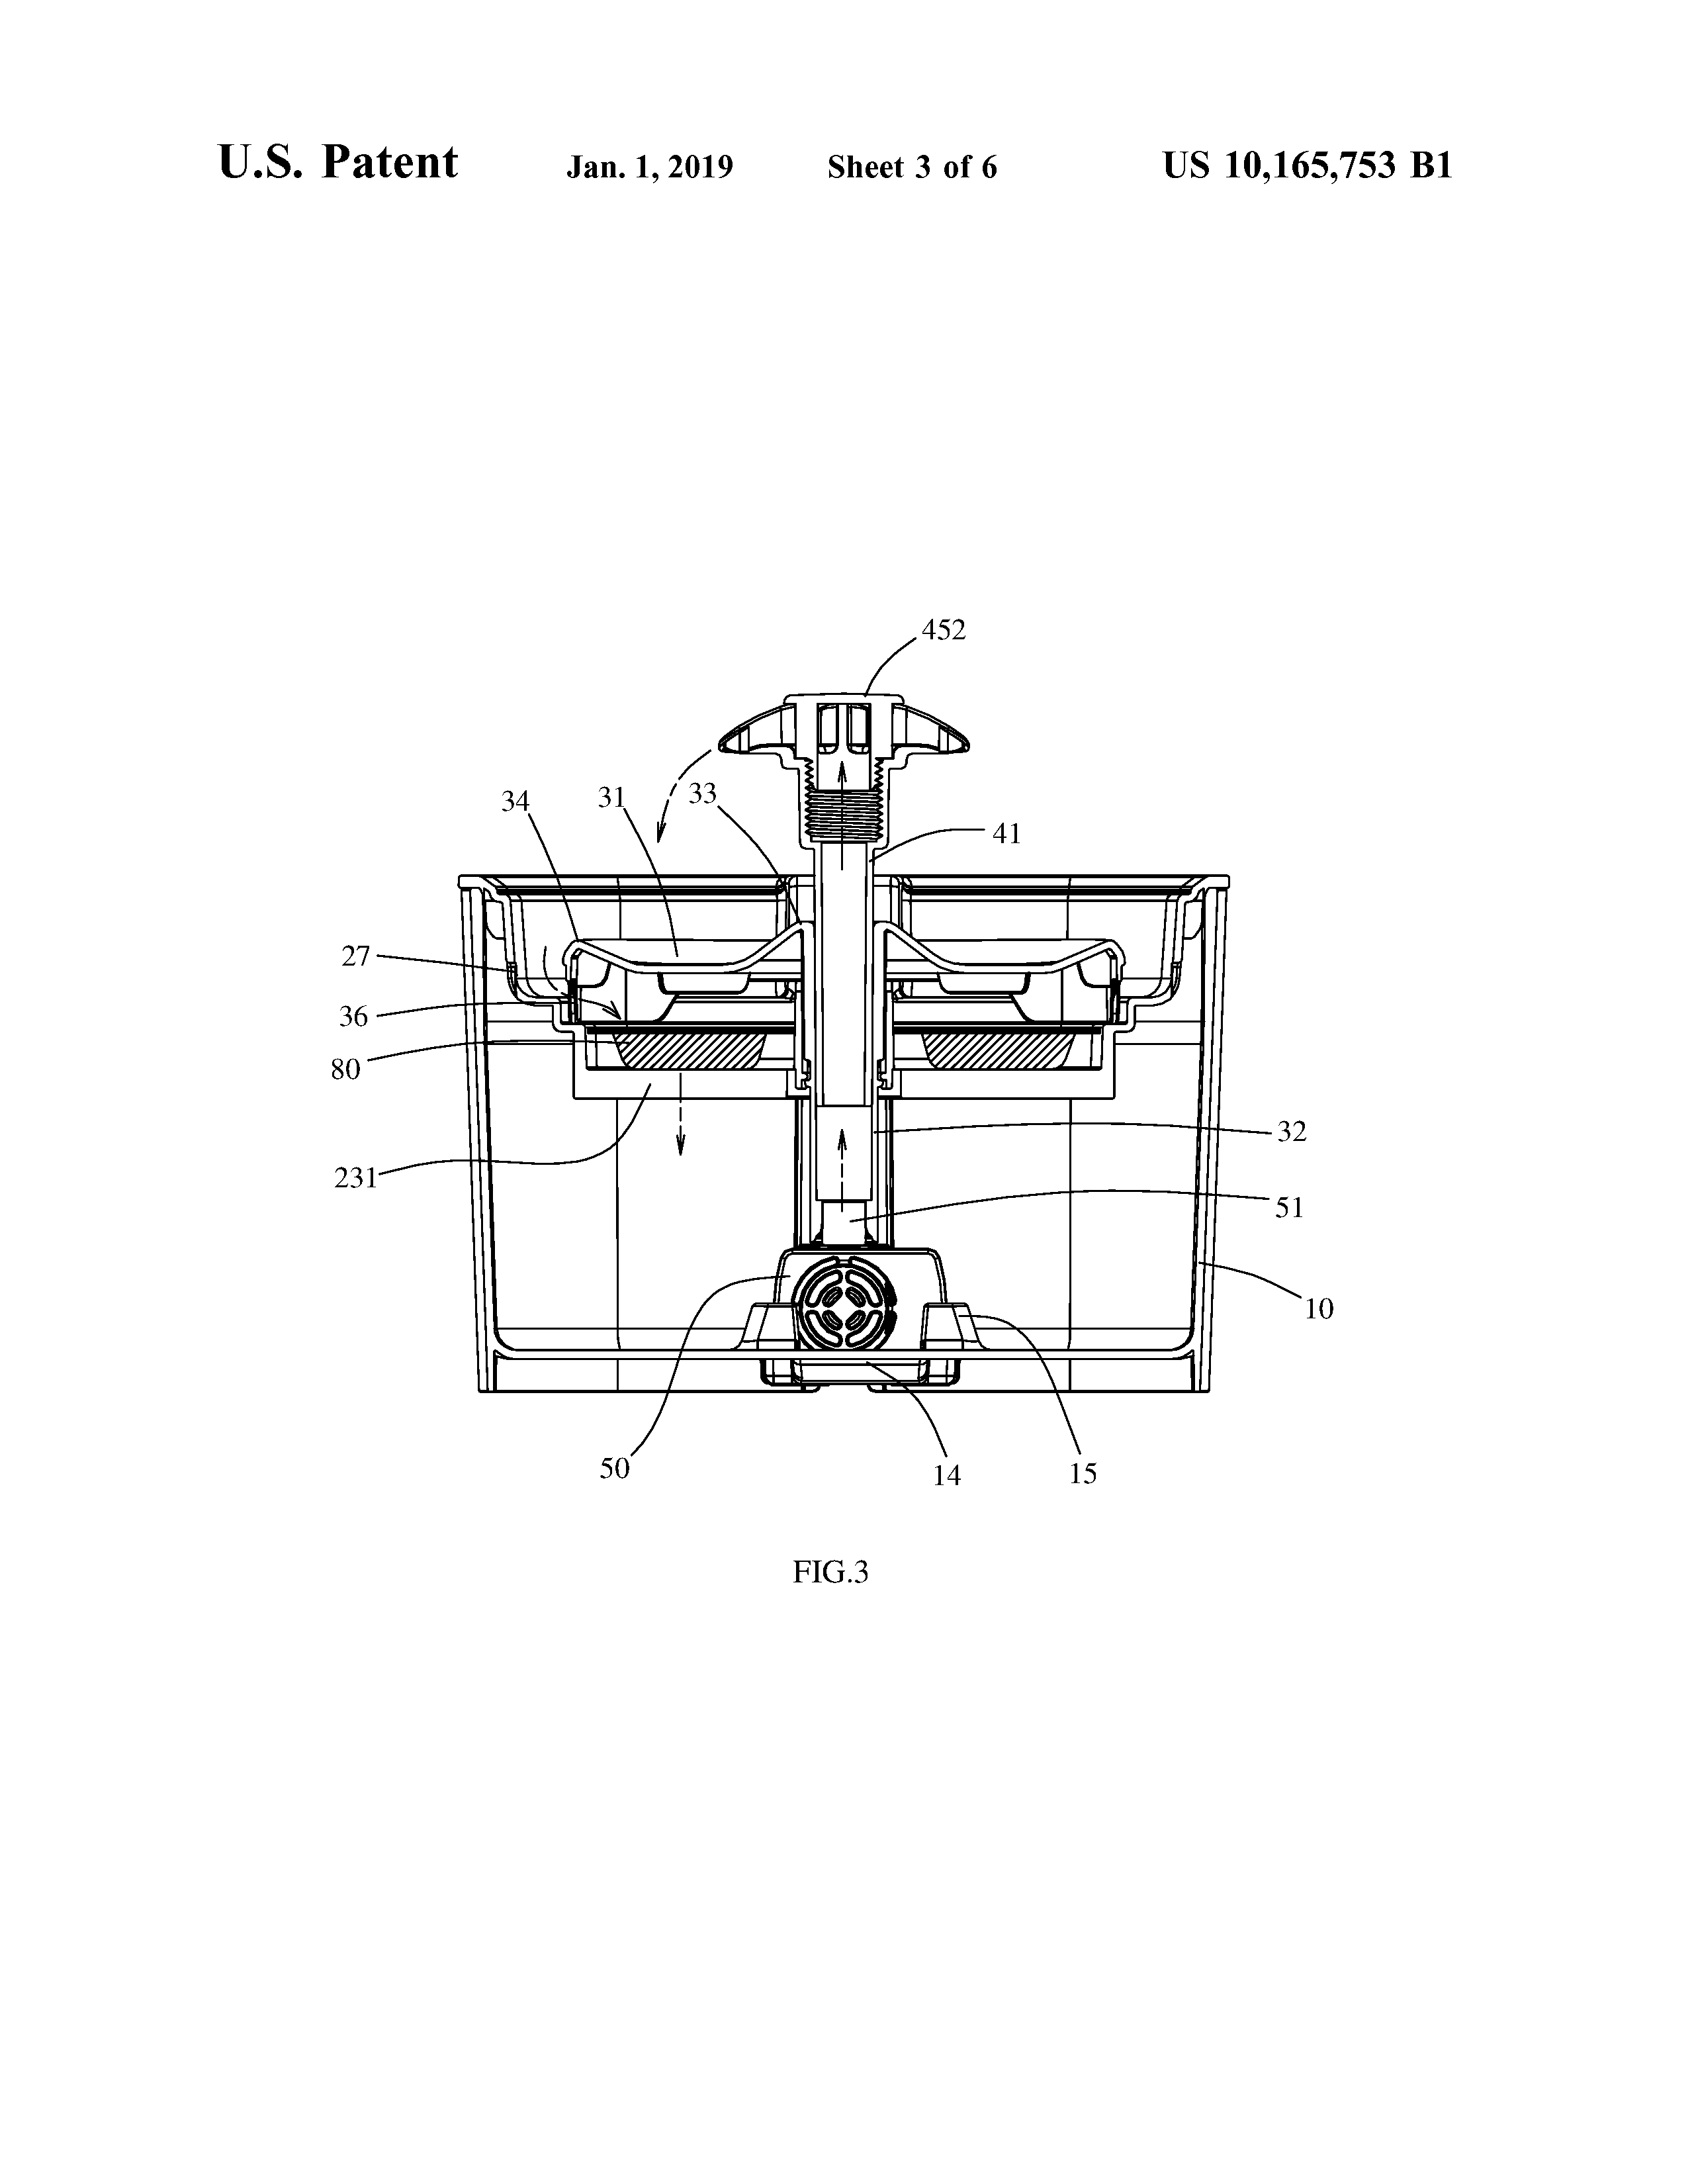patent image: (283, 590, 1449, 1665)
